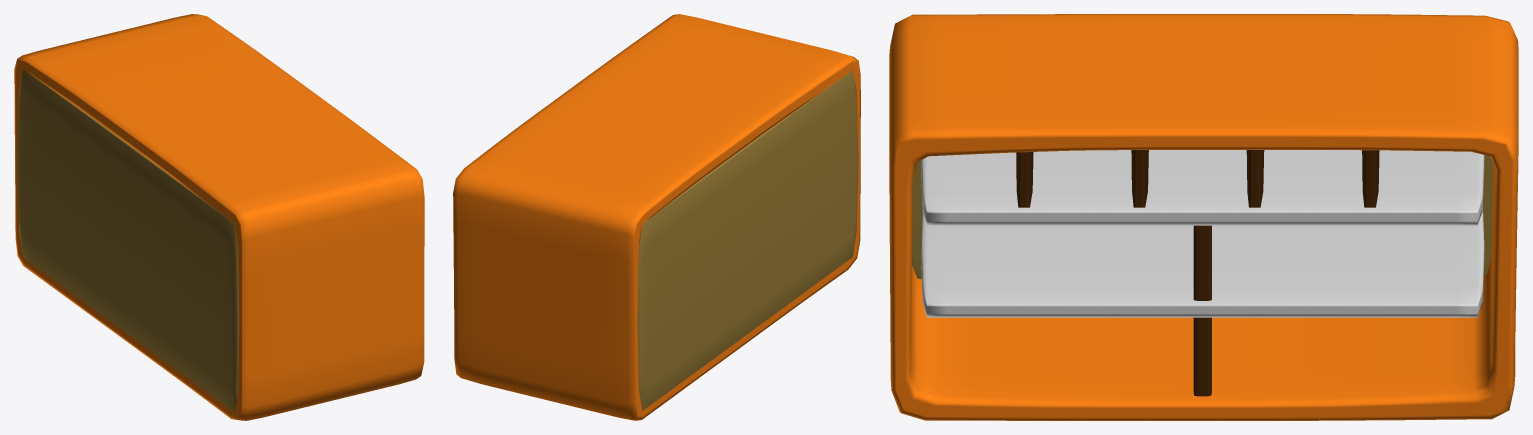
The model's file is BLENDER_tezgah.fbx.
3 views of the same model, side by side, from view 1: azimuth 30°, elevation 25°; view 2: azimuth 150°, elevation 25°; view 3: azimuth 270°, elevation 25° (orthographic). The views are drawn at different scales.
Parts seen in each view (by area): view 1: pCube54, pCube65; view 2: pCube54, pCube65; view 3: pCube54, pCube66, pCube58, pCube55, pCube65, pCube62, pCube61, pCube51, pCube53.
Part boxes in pixels (bbox=[...]): pCube54: bbox=[14, 14, 424, 420]; pCube65: bbox=[17, 69, 239, 411]; pCube54: bbox=[453, 14, 860, 420]; pCube65: bbox=[637, 70, 858, 410]; pCube54: bbox=[889, 14, 1518, 420]; pCube66: bbox=[921, 207, 1484, 317]; pCube58: bbox=[921, 150, 1484, 225]; pCube55: bbox=[1193, 225, 1211, 396]; pCube65: bbox=[912, 155, 1493, 279]; pCube62: bbox=[1131, 150, 1148, 207]; pCube61: bbox=[1362, 150, 1379, 207]; pCube51: bbox=[1246, 150, 1264, 207]; pCube53: bbox=[1016, 152, 1033, 207].
Bounding box in the file's own units: 124 × 138 × 268.
